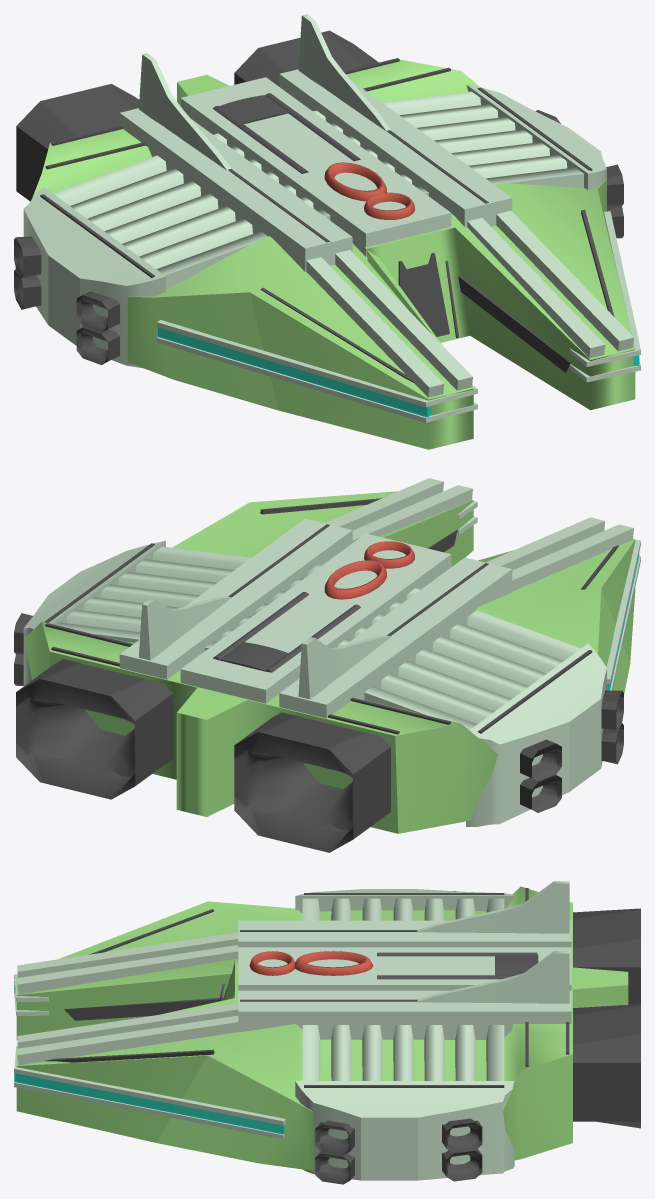
The model's file is AnotherFighter.fbx.
The picture shows the model from 3 angles, top to bottom: view 1: azimuth 30°, elevation 25°; view 2: azimuth 150°, elevation 25°; view 3: azimuth 270°, elevation 25°; orthographic projection. The views are drawn at different scales.
Visible parts, largest first — view 1: pCube1, pCube2, pCube4, pCube9, pCube10, pCube3, pCube39, pCube12, pCube6, pCube8, pCube7, pCube38 (+23 smaller); view 2: pCube1, pCube11, pCube12, pCube2, pCube4, pCube9, pCube39, pCube10, pCube3, pCube40, pCube38, pCube35 (+17 smaller); view 3: pCube1, pCube40, pCube10, pCube2, pCube11, pCube3, pCube9, pCube12, pCube33, pCube35, pCube6, pCube8 (+21 smaller).
Part boxes in pixels (x1,y1,x2,y2): pCube1: (32,59,635,449); pCube2: (180,77,451,256); pCube4: (53,133,330,289); pCube9: (119,108,352,271); pCube10: (279,69,512,227); pCube3: (313,91,583,195); pCube39: (23,203,142,367); pCube12: (16,84,139,201); pCube6: (496,210,633,351); pCube8: (335,250,472,390); pCube7: (306,257,443,397); pCube38: (29,187,165,297); pCube1: (24,491,635,833); pCube11: (16,659,172,799); pCube12: (234,712,390,852); pCube2: (180,533,451,703); pCube4: (338,588,580,730); pCube9: (279,557,512,718); pCube39: (466,672,606,826); pCube10: (119,518,352,679); pCube3: (55,546,320,650); pCube40: (23,540,165,686); pCube38: (469,644,606,748); pCube35: (298,635,391,699); pCube1: (16,886,628,1170); pCube40: (295,1081,514,1180); pCube10: (238,990,571,1039); pCube2: (238,947,571,990); pCube11: (573,1004,640,1128); pCube3: (302,1025,504,1080); pCube9: (238,920,571,947); pCube12: (573,908,640,1004); pCube33: (416,951,569,1003); pCube35: (416,881,569,933); pCube6: (17,1015,238,1065); pCube8: (17,945,238,994).
Bounding box in the file's own units: 1.53 × 0.4706 × 1.72.
